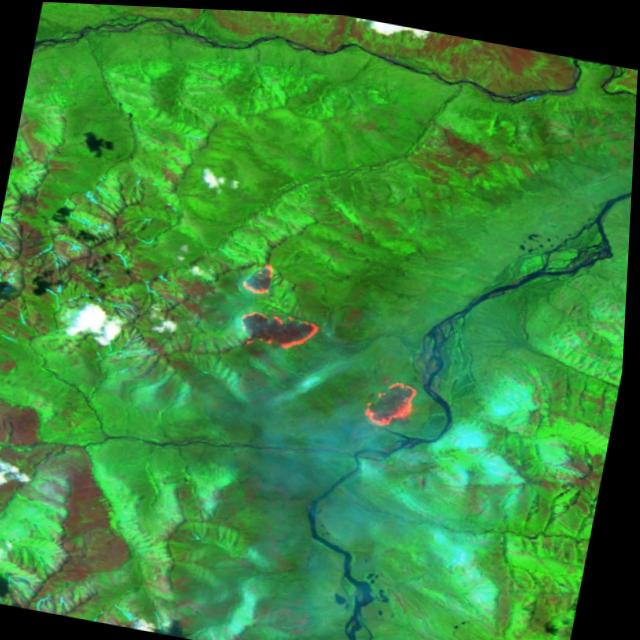fire: (231, 255, 337, 355), (361, 370, 426, 429)
